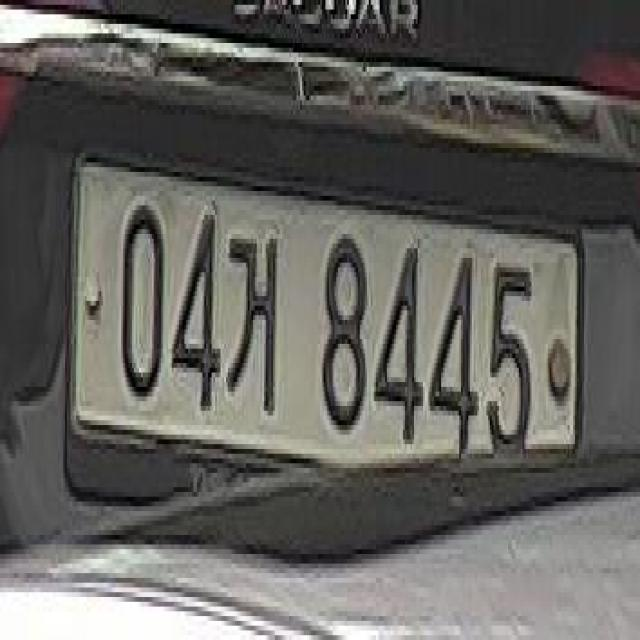illegal_plate: (69, 150, 587, 518)
